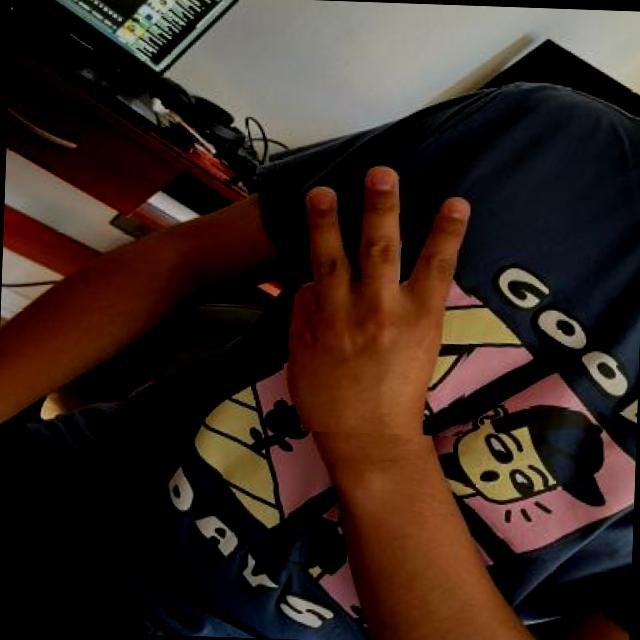W: (281, 157, 480, 436)
